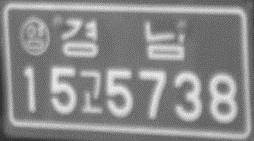1: (20, 65, 40, 114)
3: (173, 69, 203, 123)
5: (47, 65, 79, 116), (107, 67, 134, 116)
7: (136, 67, 168, 120)
8: (207, 72, 239, 126)
경남_D: (59, 16, 189, 63)
고: (77, 69, 106, 116)
영: (18, 16, 52, 57)
